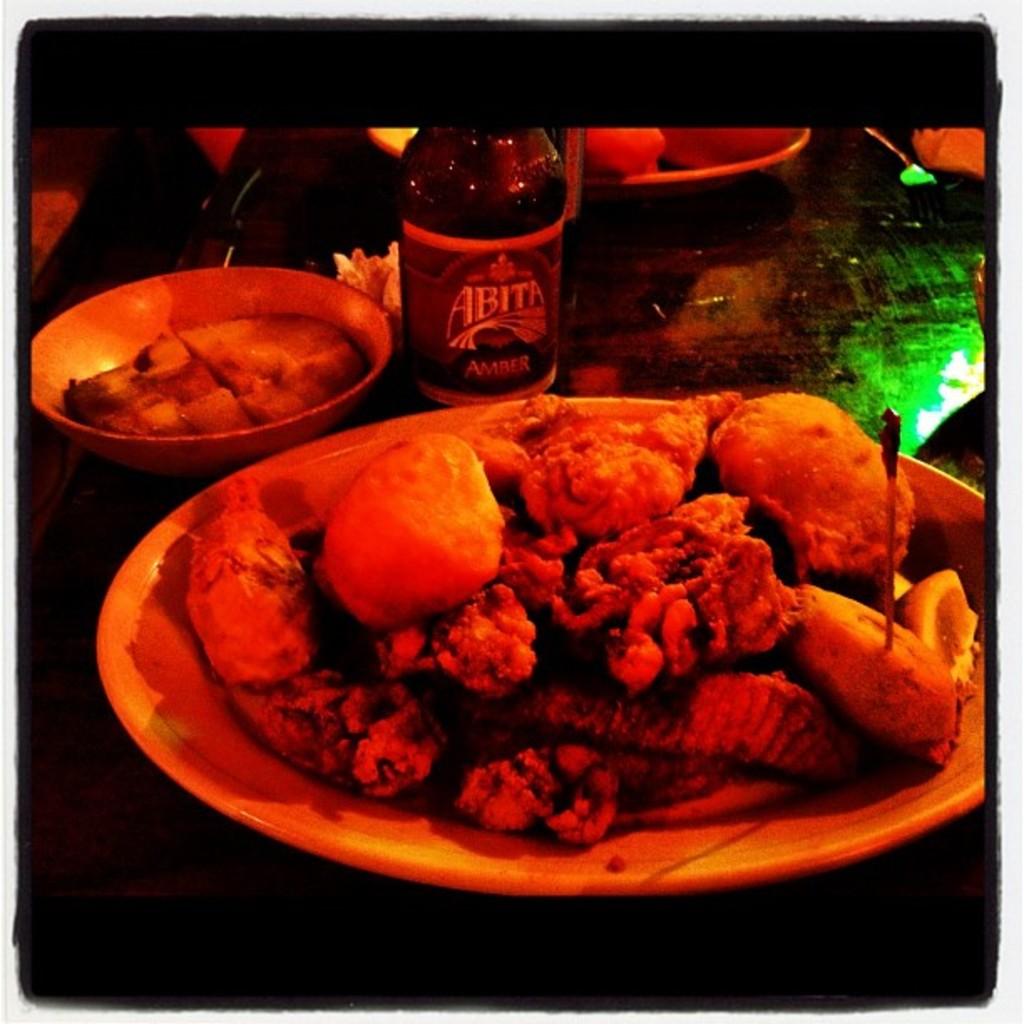plate: (95, 398, 985, 896)
